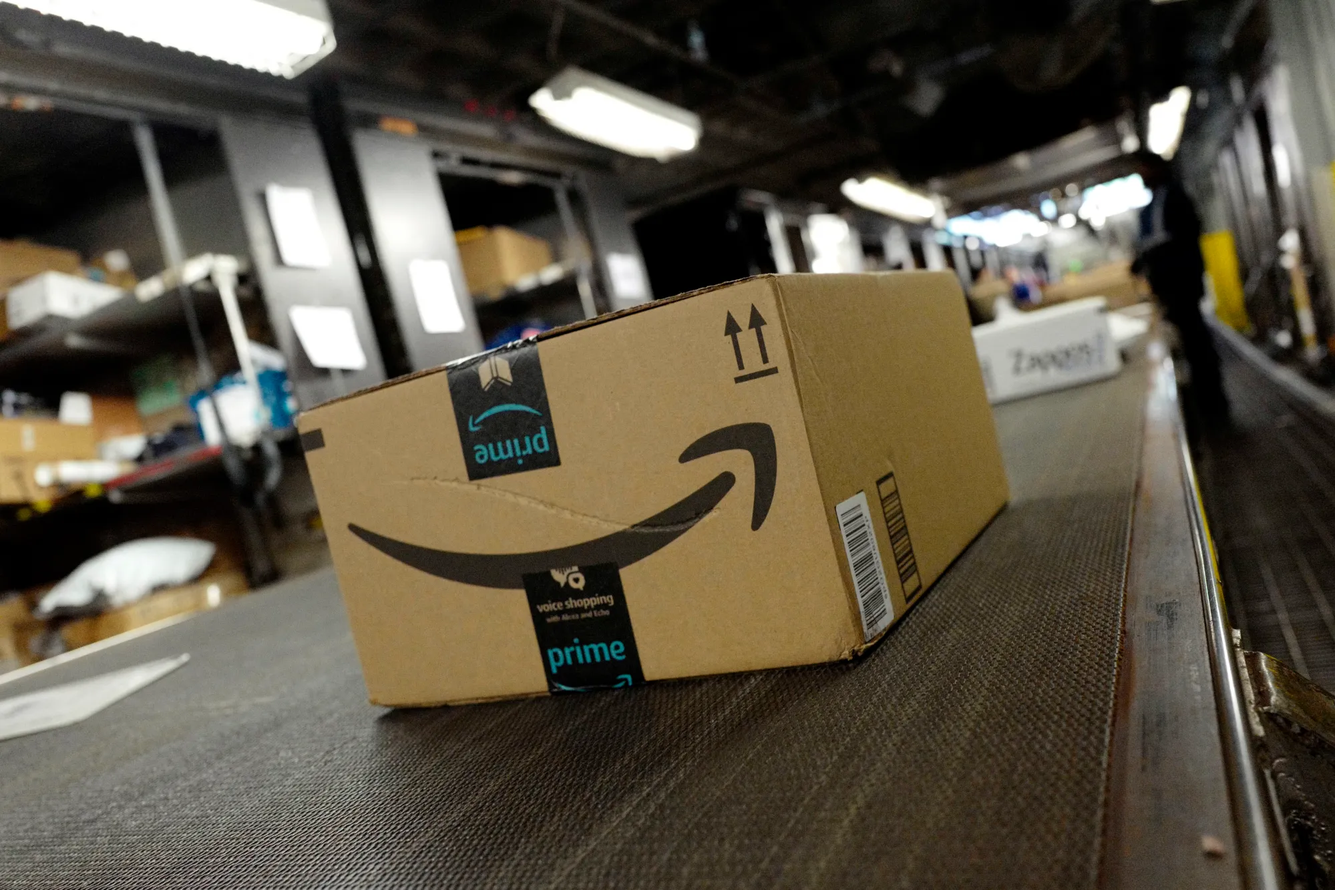package: (281, 268, 1024, 744)
